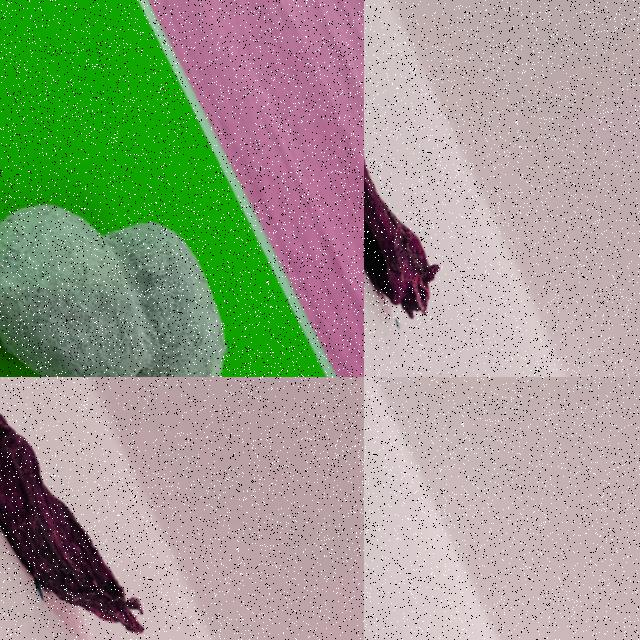Agglomerated_cocoabeans: (0, 94, 304, 376)
Flat_cocoabeans: (364, 0, 554, 376), (0, 377, 186, 639), (364, 377, 471, 639)
